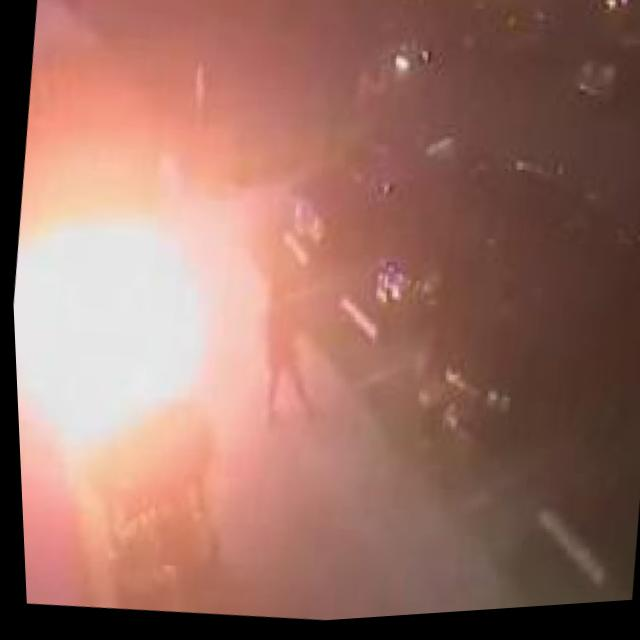fire: (238, 0, 371, 96)
